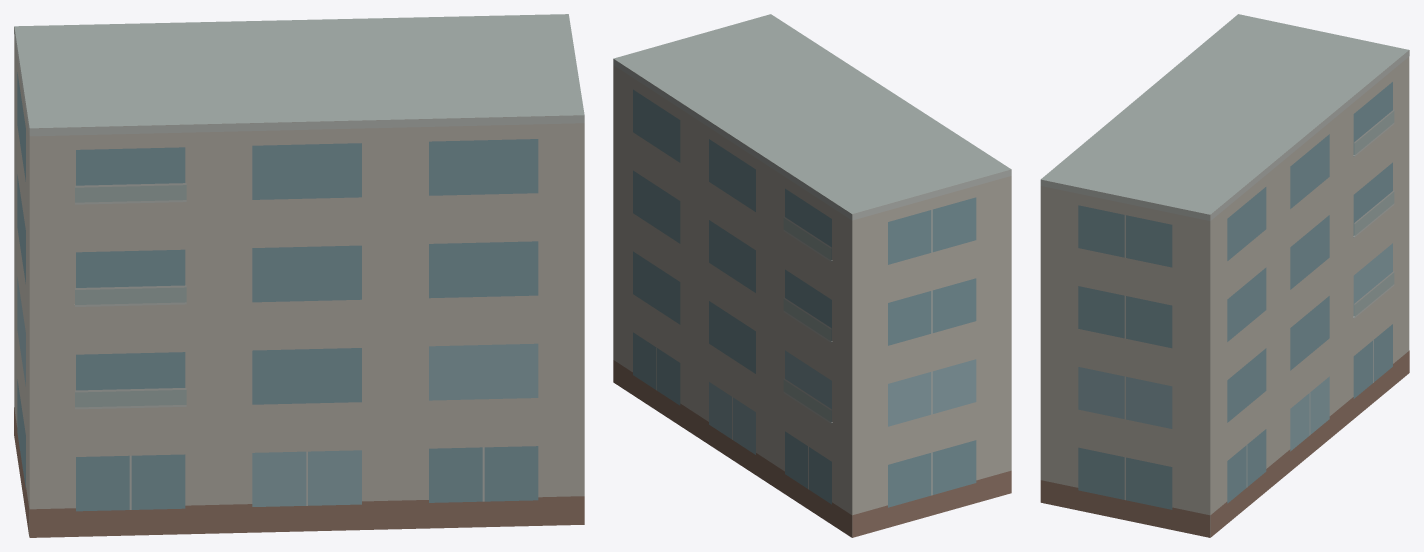
Rendered from survey-upis-32881815.glb.
3 views of the same model, side by side, from view 1: azimuth 30°, elevation 25°; view 2: azimuth 150°, elevation 25°; view 3: azimuth 270°, elevation 25° (orthographic). The views are drawn at different scales.
Visible parts, largest first — view 1: survey-upis-32881815.tmp; view 2: survey-upis-32881815.tmp; view 3: survey-upis-32881815.tmp.
Part boxes in pixels (box(x1,y1,x2,y2)): survey-upis-32881815.tmp: box(14, 14, 584, 537); survey-upis-32881815.tmp: box(613, 14, 1011, 537); survey-upis-32881815.tmp: box(1040, 14, 1409, 537).
Size of the model in its own units: 16.47 by 12.35 by 12.79.
